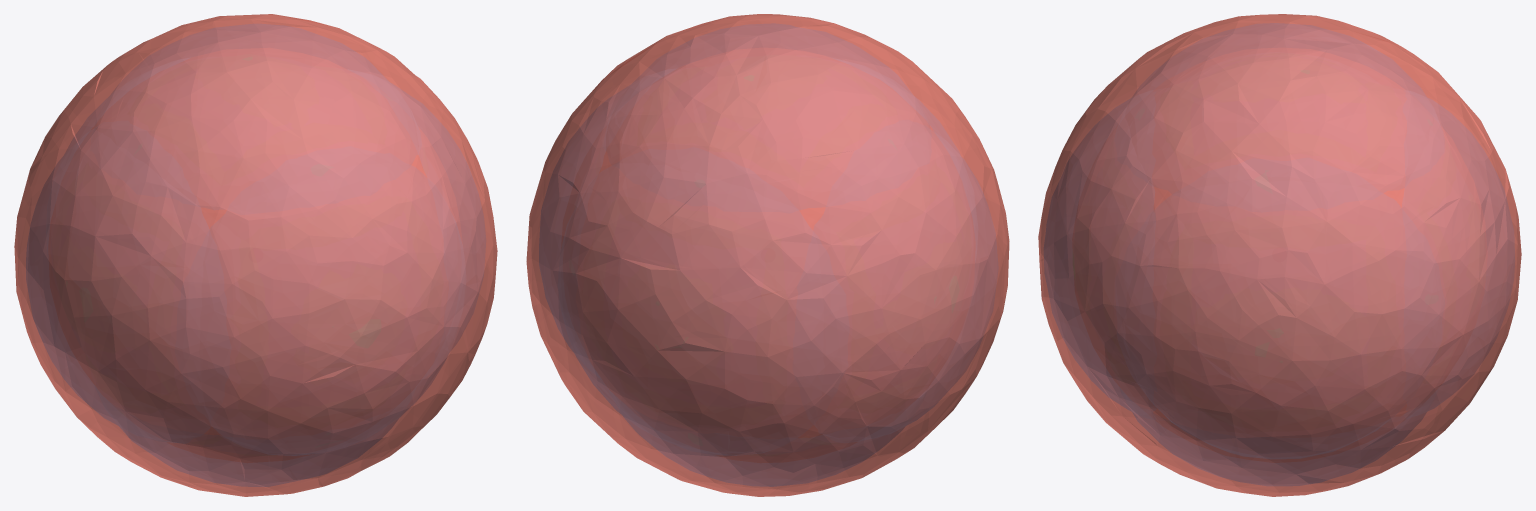
Rendered from orbital.glb.
3 views of the same model, side by side, from view 1: azimuth 30°, elevation 25°; view 2: azimuth 150°, elevation 25°; view 3: azimuth 270°, elevation 25° (orthographic).
Parts seen in each view (by area): view 1: Mc_n7_s_ml0_node, Mc_n7_p_ml-1_node, Mc_n7_p_ml1_node, Mc_n7_p_ml0_node; view 2: Mc_n7_s_ml0_node, Mc_n7_p_ml-1_node, Mc_n7_p_ml1_node, Mc_n7_p_ml0_node, Mc_n6_s_ml0_node; view 3: Mc_n7_s_ml0_node, Mc_n7_p_ml0_node, Mc_n7_p_ml-1_node.
Boxes of the visible parts, x1,y1,x2,y2 form: Mc_n7_s_ml0_node: [14, 14, 497, 496]; Mc_n7_p_ml-1_node: [94, 24, 414, 486]; Mc_n7_p_ml1_node: [26, 84, 485, 440]; Mc_n7_p_ml0_node: [66, 97, 465, 453]; Mc_n7_s_ml0_node: [526, 14, 1009, 496]; Mc_n7_p_ml-1_node: [610, 24, 929, 486]; Mc_n7_p_ml1_node: [539, 86, 997, 439]; Mc_n7_p_ml0_node: [558, 98, 959, 453]; Mc_n6_s_ml0_node: [599, 126, 932, 437]; Mc_n7_s_ml0_node: [1038, 14, 1521, 496]; Mc_n7_p_ml0_node: [1044, 98, 1514, 414]; Mc_n7_p_ml-1_node: [1125, 23, 1432, 485].
Size of the model in its own units: 3.55 by 3.56 by 3.55.
